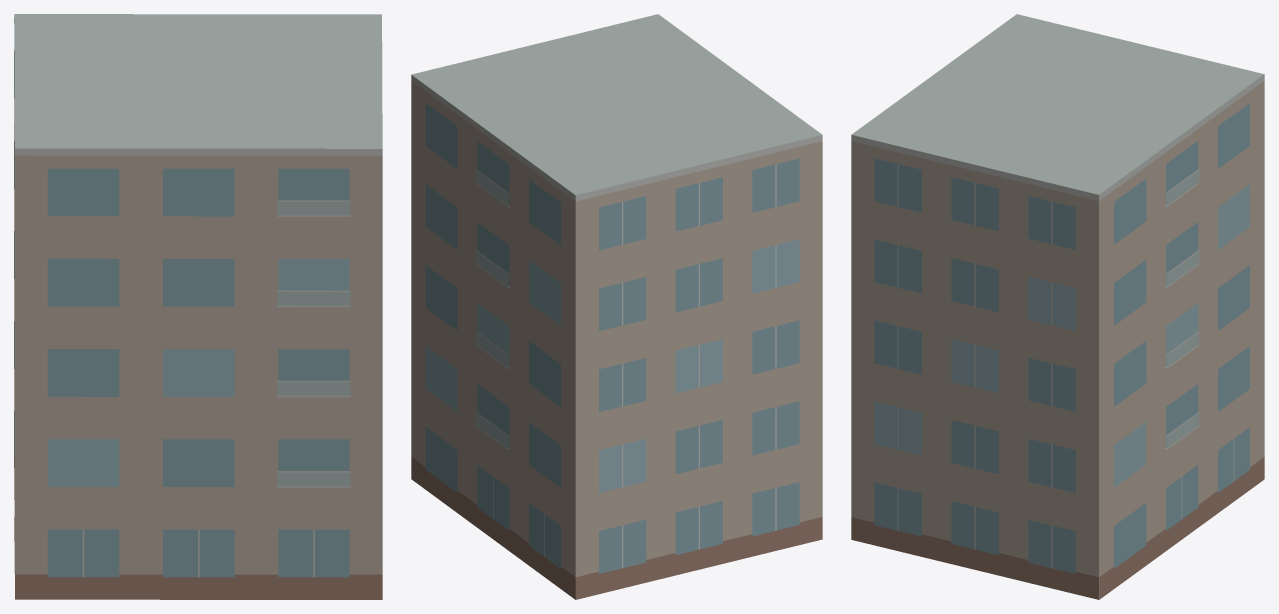
The model's file is survey-upis-32868946.glb.
3 renders of one model, left to right at view 1: azimuth 30°, elevation 25°; view 2: azimuth 150°, elevation 25°; view 3: azimuth 270°, elevation 25°, orthographic. The views are drawn at different scales.
Parts seen in each view (by area): view 1: survey-upis-32868946.tmp; view 2: survey-upis-32868946.tmp; view 3: survey-upis-32868946.tmp.
Boxes of the visible parts, left/top/right/bottom form: survey-upis-32868946.tmp: left=14, top=14, right=382, bottom=599; survey-upis-32868946.tmp: left=411, top=14, right=822, bottom=599; survey-upis-32868946.tmp: left=851, top=14, right=1264, bottom=599.
Size of the model in its own units: 15.24 by 15.9 by 14.72.
